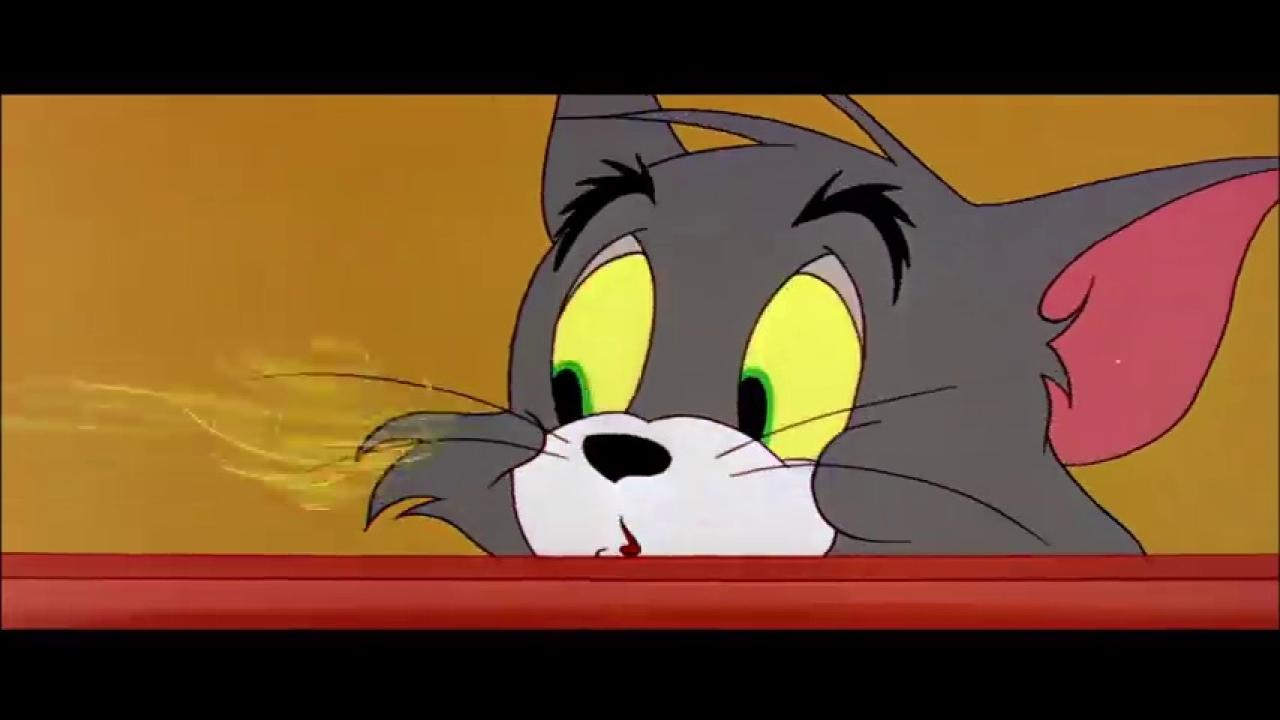Tom: (350, 95, 1280, 555)
